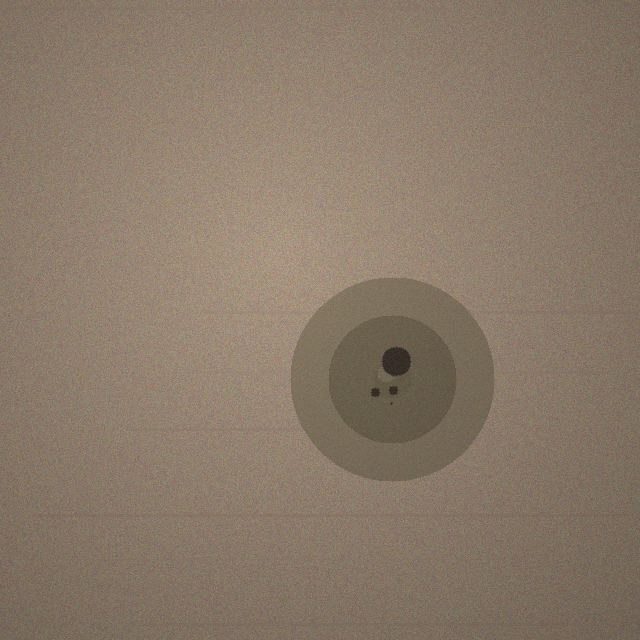shrinkage: (290, 277, 494, 481)
